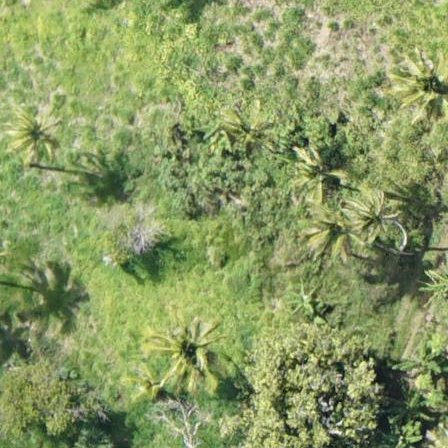palm_tree: (152, 315, 226, 386), (391, 53, 448, 124), (346, 185, 406, 249), (3, 106, 65, 164)
